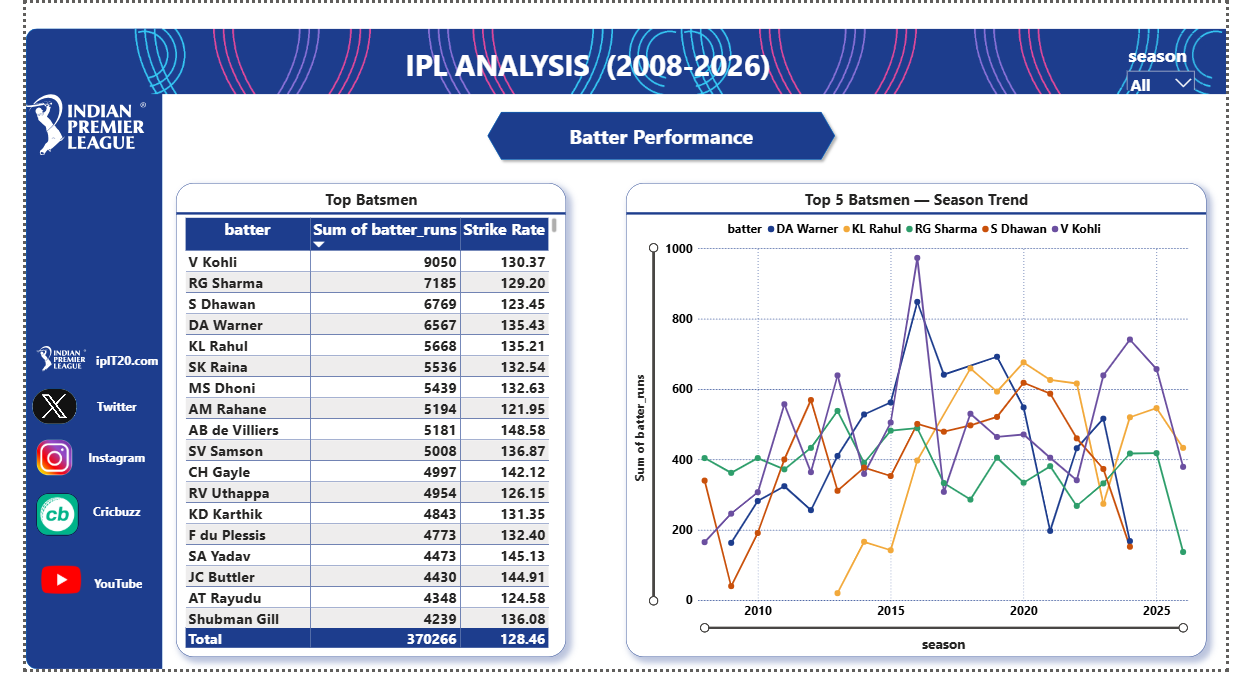

The dashboard page shown, as its layout file describes it:
{"tool":"powerbi","page":{"name":"Batter Performance ","canvas":[2000,1110],"ordinal":1},"visuals":[{"type":"shape","box":[0,42.5,227.5,1067.5],"z":0},{"type":"image","box":[1090,42.5,910,110],"z":1000},{"type":"image","box":[180,42.5,910,110],"z":2000},{"type":"textbox","box":[627.5,65,730,80],"z":3000},{"type":"slicer","fields":{"Values":["ipl_db matches.season"]},"box":[1815,50,152.5,97.5],"z":4000},{"type":"image","box":[0,105,200,195],"z":5000},{"type":"actionButton","box":[110,565,117.5,60],"z":6000},{"type":"image","box":[17.5,565,82.5,55],"z":7000},{"type":"actionButton","box":[92.5,642.5,117.5,60],"z":8000},{"type":"image","box":[10,642.5,75,60],"z":9000},{"type":"actionButton","box":[92.5,727.5,117.5,60],"z":10000},{"type":"image","box":[17.5,727.5,60,60],"z":11000},{"type":"actionButton","box":[92.5,817.5,117.5,60],"z":12000},{"type":"image","box":[17.5,817.5,70,70],"z":13000},{"type":"actionButton","box":[105,942.5,97.5,47.5],"z":14000},{"type":"image","box":[25,932.5,67.5,57.5],"z":15000},{"type":"tableEx","title":"Top Batsmen","fields":{"Values":["ipl_db deliveries.batter","Sum(ipl_db deliveries.batter_runs)","ipl_db deliveries.Strike Rate"]},"box":[250,300,650,790],"z":16000},{"type":"lineChart","title":"Top 5 Batsmen — Season Trend","fields":{"Series":["ipl_db deliveries.batter"],"Y":["Sum(ipl_db deliveries.batter_runs)"],"Category":["ipl_db matches.season"]},"box":[1000,300,967.5,790],"z":17000},{"type":"shape","box":[760,172.5,597.5,97.5],"z":18000}]}

Visuals, with their boxes on the page's 2000x1110 design canvas (x1, y1, x2, y2). These are canvas units, not pixel positions in the 1260x676 screenshot, which may show the page scaled, cropped or inside an application window:
shape: 0/42/228/1110
image: 1090/42/2000/152
image: 180/42/1090/152
textbox: 628/65/1358/145
slicer - ipl_db matches.season: 1815/50/1968/148
image: 0/105/200/300
actionButton: 110/565/228/625
image: 18/565/100/620
actionButton: 92/642/210/702
image: 10/642/85/702
actionButton: 92/728/210/788
image: 18/728/78/788
actionButton: 92/818/210/878
image: 18/818/88/888
actionButton: 105/942/202/990
image: 25/932/92/990
"Top Batsmen" tableEx: 250/300/900/1090
"Top 5 Batsmen — Season Trend" lineChart: 1000/300/1968/1090
shape: 760/172/1358/270
